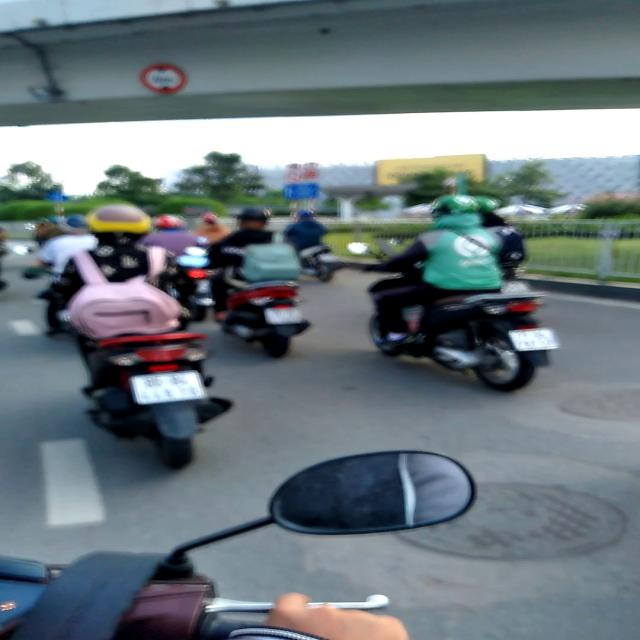P.117: (139, 63, 186, 94)
